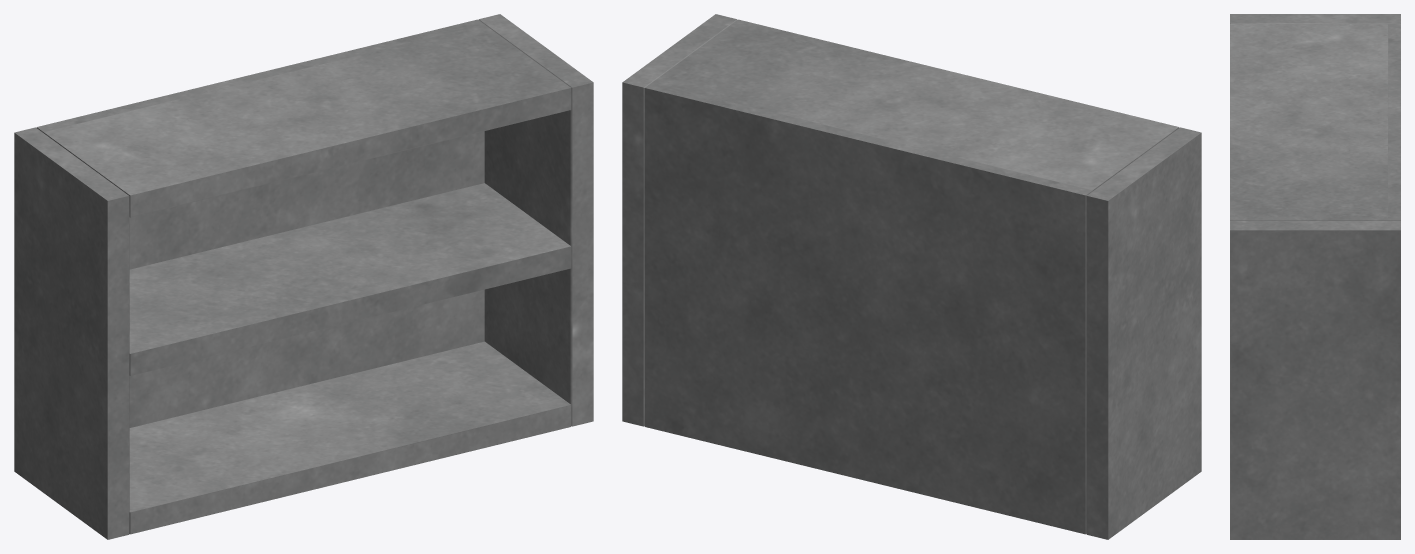
The model's file is LC_3145_iron_shelf_LOD2.fbx.
3 renders of one model, left to right at view 1: azimuth 30°, elevation 25°; view 2: azimuth 150°, elevation 25°; view 3: azimuth 270°, elevation 25°, orthographic. The views are drawn at different scales.
Parts seen in each view (by area): view 1: LC_3145_is_LOD2; view 2: LC_3145_is_LOD2; view 3: LC_3145_is_LOD2.
Boxes of the visible parts, left/top/right/bottom form: LC_3145_is_LOD2: left=14, top=14, right=593, bottom=539; LC_3145_is_LOD2: left=622, top=14, right=1201, bottom=539; LC_3145_is_LOD2: left=1230, top=14, right=1400, bottom=539.
Bounding box in the file's own units: 90 × 60 × 30.
1 material, 1 textured.
